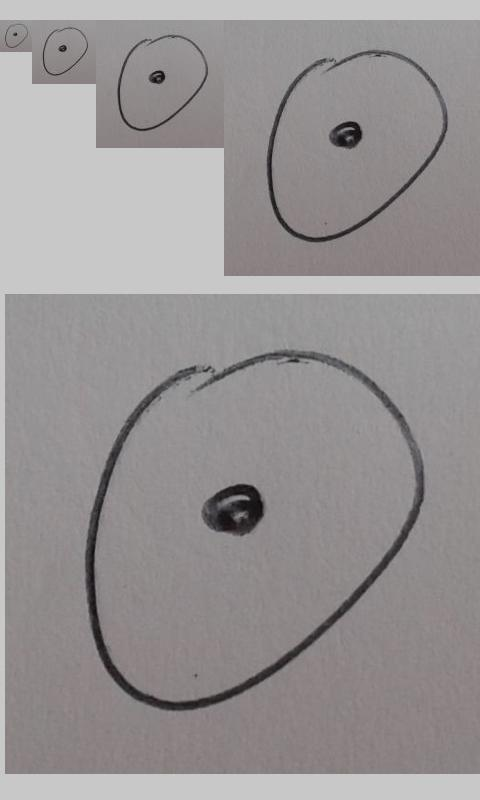radio_button: (82, 347, 427, 713), (265, 48, 448, 243), (115, 34, 208, 131), (40, 26, 88, 76), (3, 23, 28, 49)
